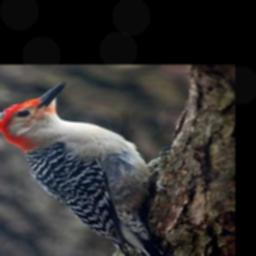Woodpecker: (0, 82, 176, 256)
